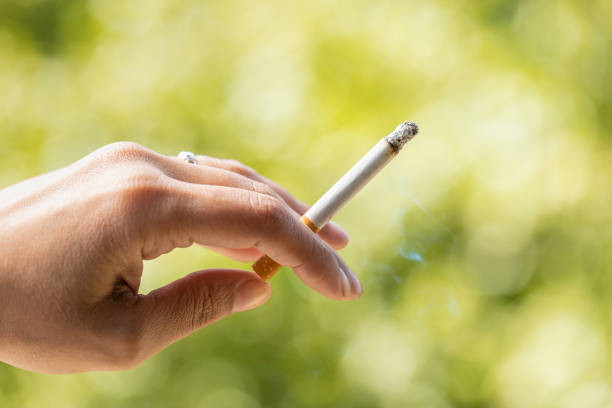cigarette: (248, 119, 422, 286)
